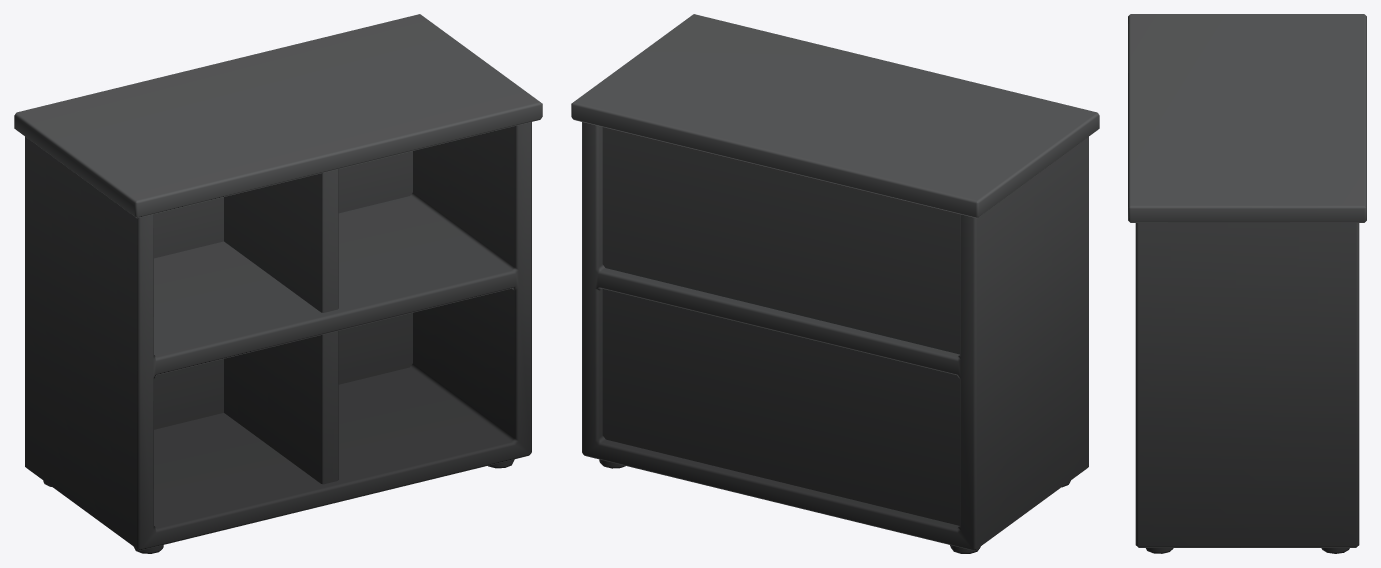
File: Shelving_01.glb
The picture shows the model from 3 angles, left to right: view 1: azimuth 30°, elevation 25°; view 2: azimuth 150°, elevation 25°; view 3: azimuth 270°, elevation 25°; orthographic projection. The views are drawn at different scales.
Visible parts, largest first — view 1: Shelving_01; view 2: Shelving_01; view 3: Shelving_01.
Part boxes in pixels (<box>): Shelving_01: <box>14,14,542,553</box>; Shelving_01: <box>571,14,1099,553</box>; Shelving_01: <box>1128,14,1366,553</box>.
Size of the model in its own units: 0.9993 by 0.8562 by 0.5209.
Materials: 1 (1 with a texture image).
